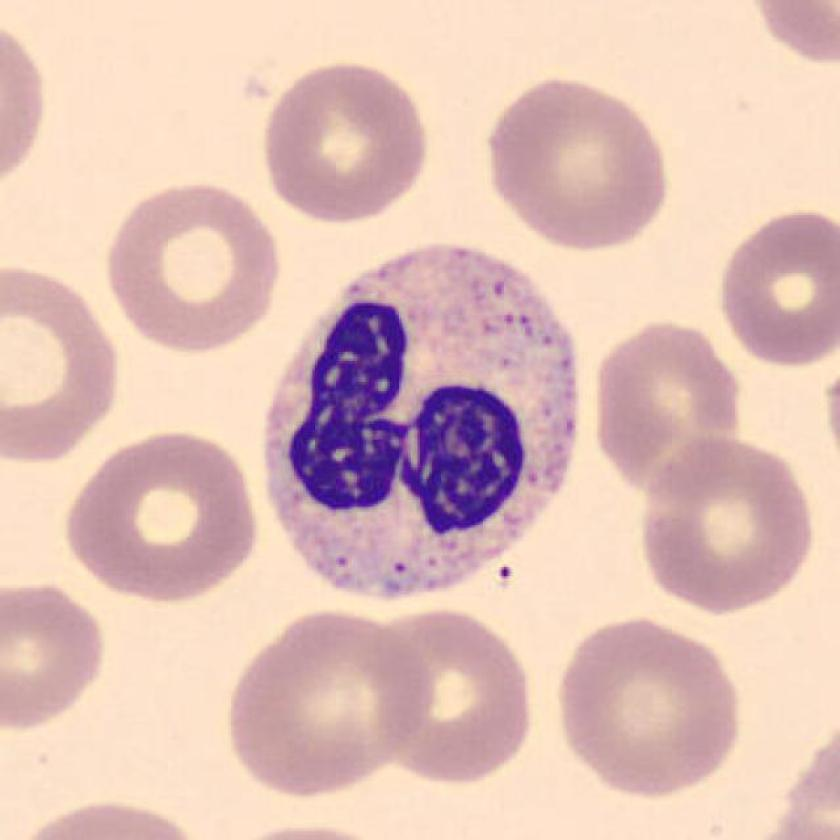neutrophil: (262, 245, 579, 606)
